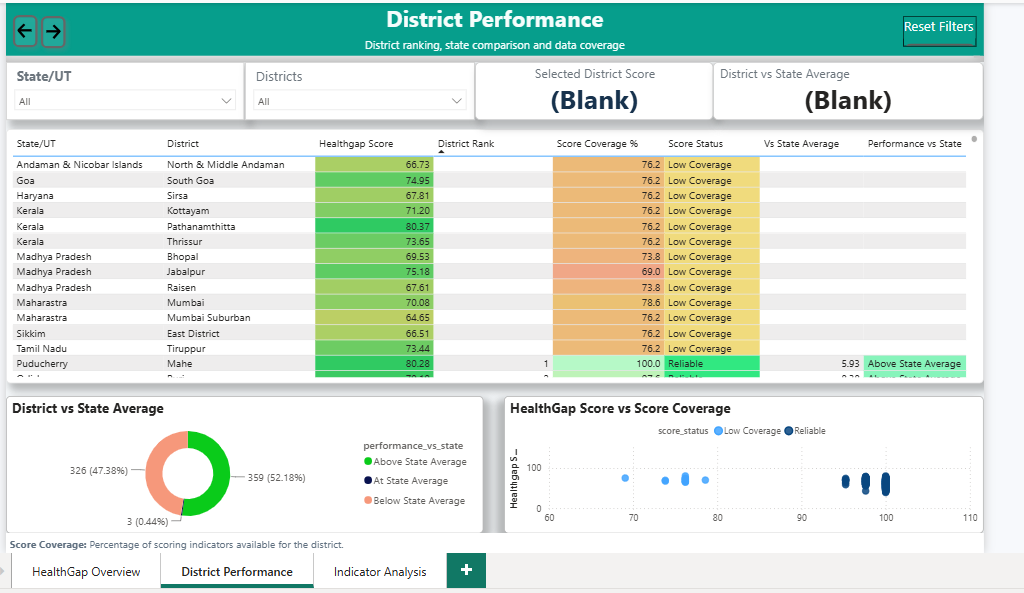

This screenshot's page, from the dashboard's own definition file:
{"tool":"powerbi","page":{"name":"District Performance","canvas":[1280,720],"ordinal":1},"visuals":[{"type":"slicer","fields":{"Values":["Geography.state_ut"]},"box":[0,77.8,312.5,76.3],"z":0},{"type":"slicer","fields":{"Values":["Geography.district_names"]},"box":[312.5,77.8,301,76.3],"z":1000},{"type":"tableEx","fields":{"Values":["District Scores.state_ut","District Scores.district_names","Avg(District Scores.healthgap_score)","District Scores.district_rank","District Scores.score_coverage_pct","District Scores.score_status","District Scores.district_vs_state","District Scores.performance_vs_state"]},"box":[0,164.6,1280,332.6],"z":2000},{"type":"actionButton","box":[0,0,100,40],"z":3000},{"type":"card","title":"Selected District Score","fields":{"Values":["Measures (2).Selected district Gap Score"]},"box":[613.4,77.8,312.5,76.3],"z":4000},{"type":"card","title":"District vs State Average","fields":{"Values":["Measures (2).Selected District vs State Average"]},"box":[925.9,77.8,354.2,76.3],"z":5000},{"type":"scatterChart","title":"HealthGap Score vs Score  Coverage","fields":{"Category":["District Scores.district_names"],"Series":["District Scores.score_status"],"X":["Sum(District Scores.score_coverage_pct)"],"Y":["Sum(District Scores.healthgap_score)"]},"box":[652.3,514.1,627.8,180],"z":6000},{"type":"textbox","title":"District Performance","box":[0,0,1280,77.3],"z":7000},{"type":"donutChart","title":"District vs State Average","fields":{"Category":["District Scores.performance_vs_state"],"Y":["Measures (2).Reliable Districts"]},"box":[0,514.1,625,180],"z":8000},{"type":"textbox","box":[0,693.8,1280,26.9],"z":9000},{"type":"actionButton","title":"Reset Filters","box":[1173.6,17.3,96.5,40.3],"z":10000},{"type":"actionButton","box":[0,6.7,50.4,60.5],"z":11000},{"type":"actionButton","box":[36,7.2,50.4,60.5],"z":12000}]}

Visuals, with their boxes in screenshot pixels (x1, y1, x2, y2), scaled from the page's 1280x720 canvas onto the 1024x593 screenshot:
slicer - Geography.state_ut: region(0, 64, 250, 127)
slicer - Geography.district_names: region(250, 64, 491, 127)
tableEx - District Scores.state_ut x District Scores.district_names: region(0, 136, 1023, 409)
actionButton: region(0, 0, 80, 33)
"Selected District Score" card: region(491, 64, 741, 127)
"District vs State Average" card: region(741, 64, 1023, 127)
"HealthGap Score vs Score  Coverage" scatterChart: region(522, 423, 1023, 572)
"District Performance" textbox: region(0, 0, 1023, 64)
"District vs State Average" donutChart: region(0, 423, 500, 572)
textbox: region(0, 571, 1023, 592)
"Reset Filters" actionButton: region(939, 14, 1016, 47)
actionButton: region(0, 6, 40, 55)
actionButton: region(29, 6, 69, 56)
